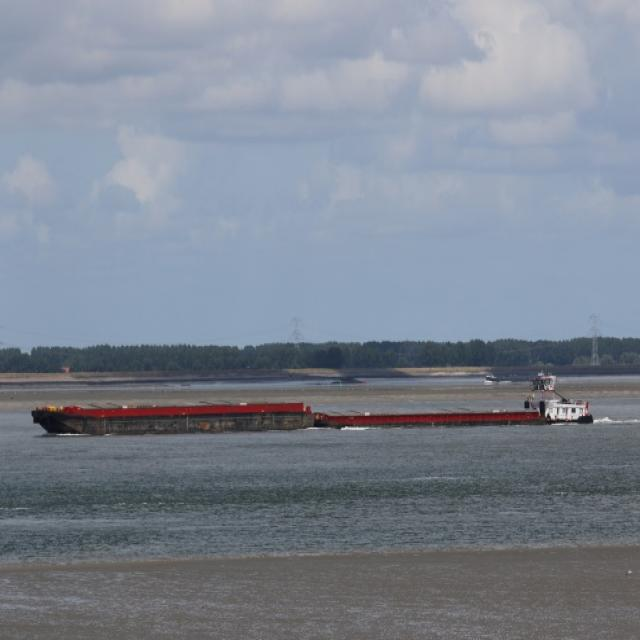tugboat: (521, 373, 598, 434)
